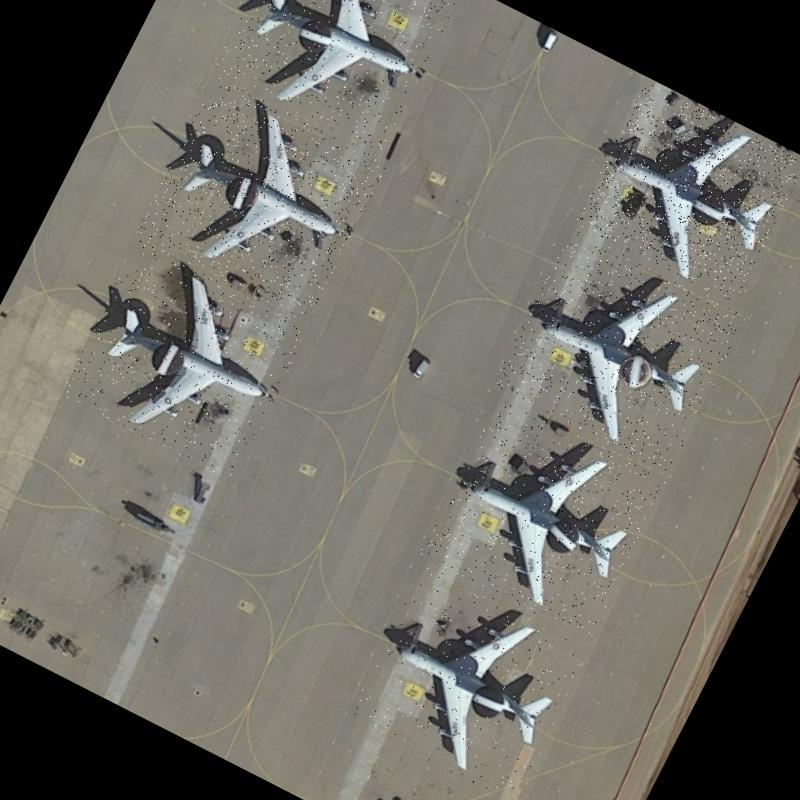A7: (492, 228, 747, 473), (59, 235, 312, 481), (418, 394, 668, 640), (136, 76, 387, 320), (345, 563, 590, 800), (573, 80, 800, 303), (214, 0, 456, 152)
